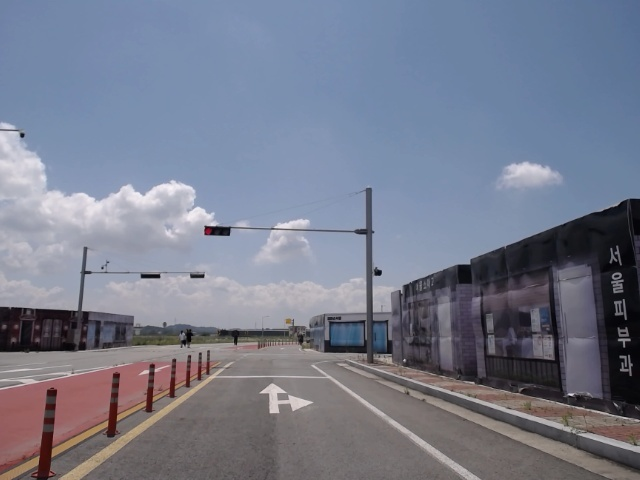red_3: (202, 224, 231, 238)
